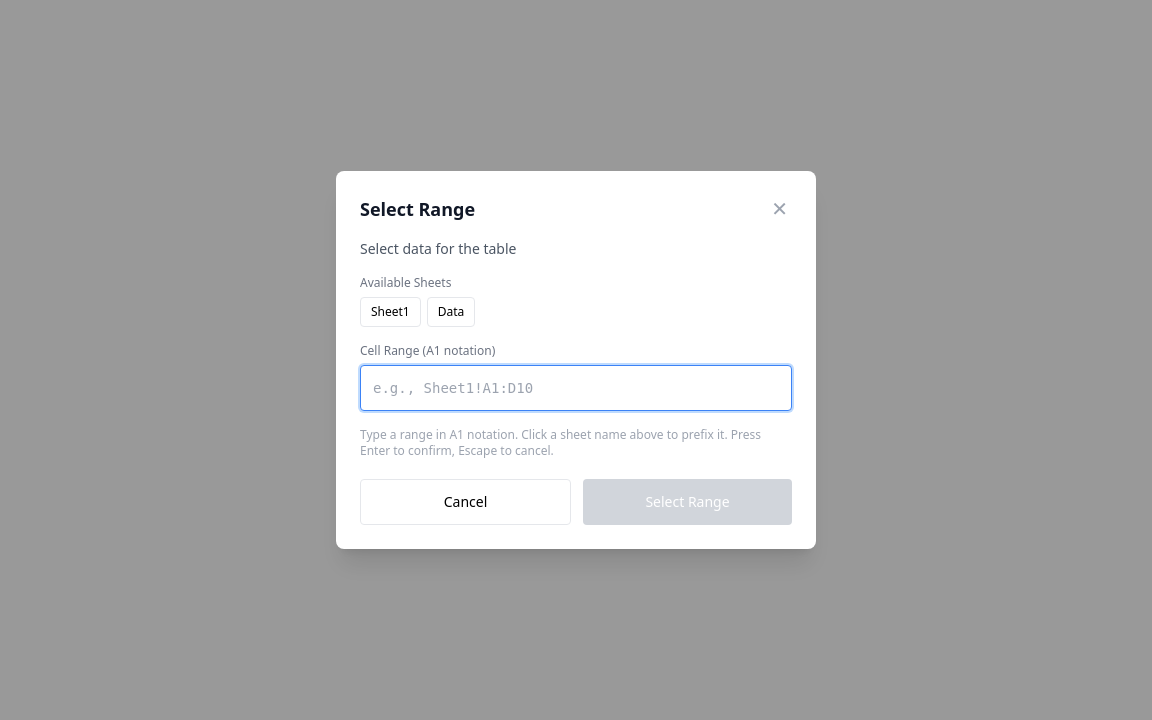
it: SheetLinkRangePicker › shows error for invalid range
This screenshot has width=1152, height=720.
Type "!!!invalid" into the field with placeholder "e.g., Sheet1!A1:D10" at (576, 388), box [360,365,792,411]
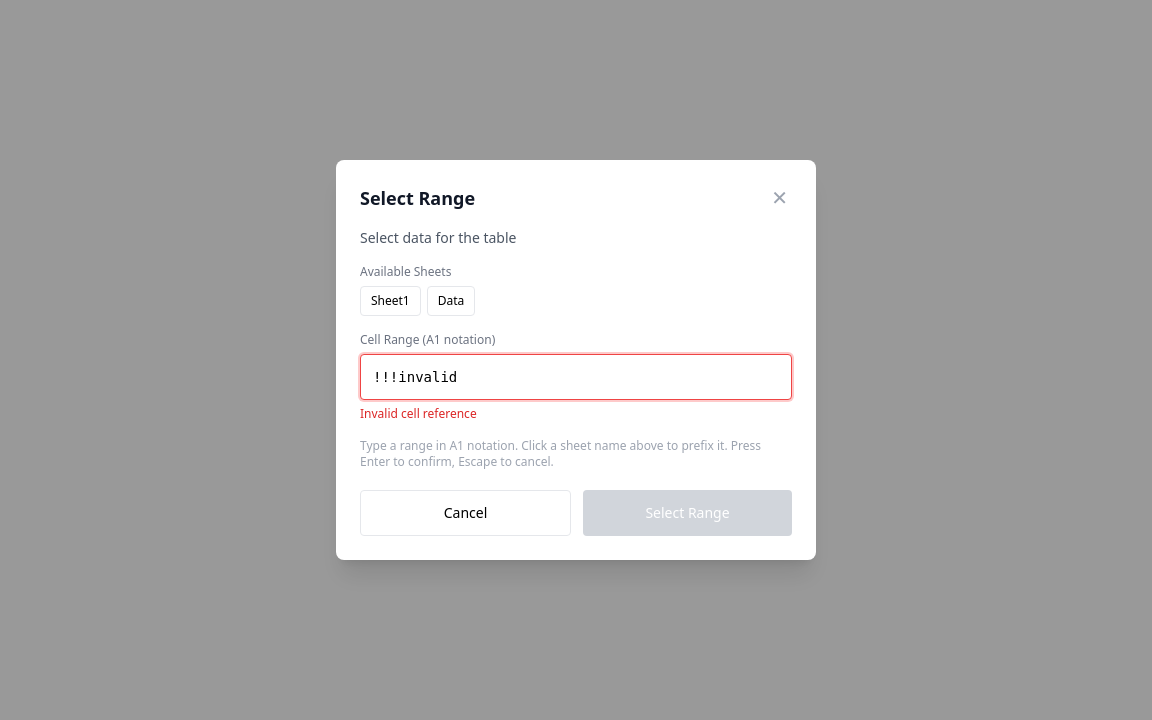
Now the text "Invalid cell reference" is shown, box [360,405,477,422]
